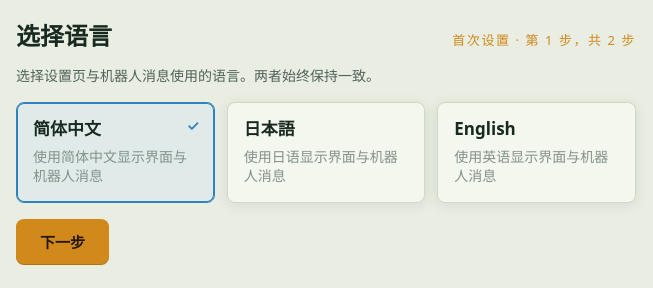
it: ModeOnboarding › 语言与模式各自组成 radiogroup（a11y）
The image size is (653, 288).
Check: the number of radio buttons is 3, box [16,102,215,203]; [227,102,425,203]; [437,102,636,203]
Step 1. Click the button "下一步" → (62, 242), box [16,219,109,264]
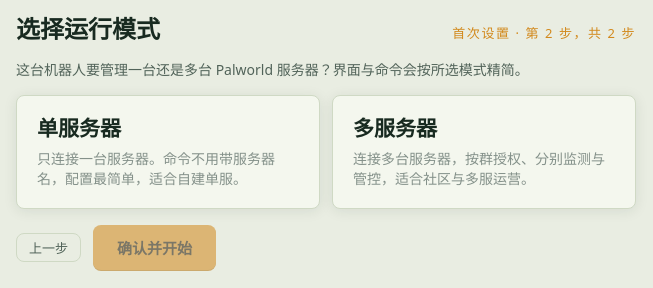
Check: the number of radio buttons is 2, box [16,95,320,209]; [332,95,636,209]
